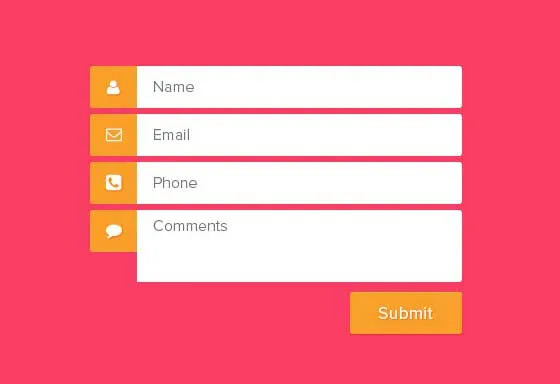_form_: (79, 1, 495, 384)
button: (348, 291, 464, 336)
field: (134, 210, 463, 283), (134, 65, 465, 109), (132, 113, 463, 157), (134, 161, 463, 205)
